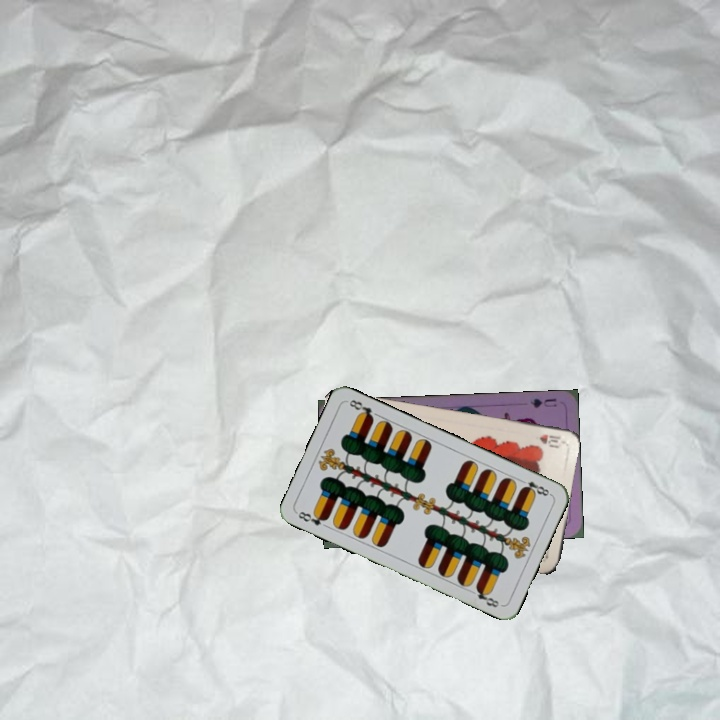E8: (515, 475, 554, 499), (293, 507, 331, 528)
GU: (527, 394, 559, 411)
H10: (535, 430, 563, 450)
